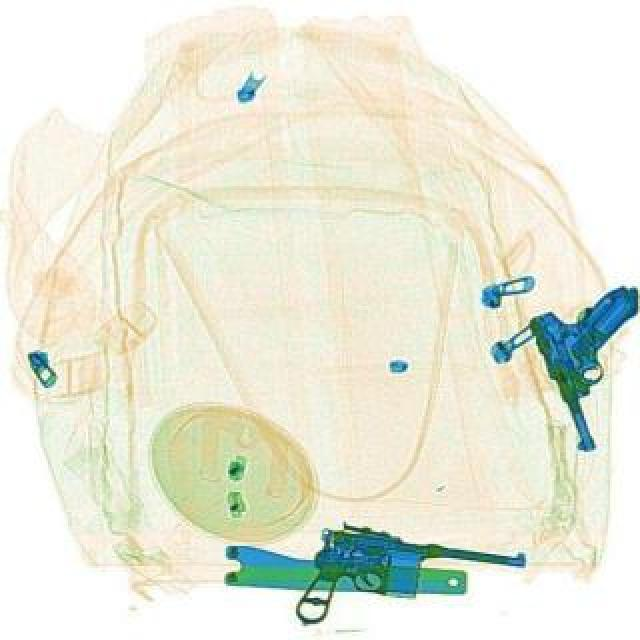gun: (310, 524, 534, 640), (532, 284, 640, 448)
